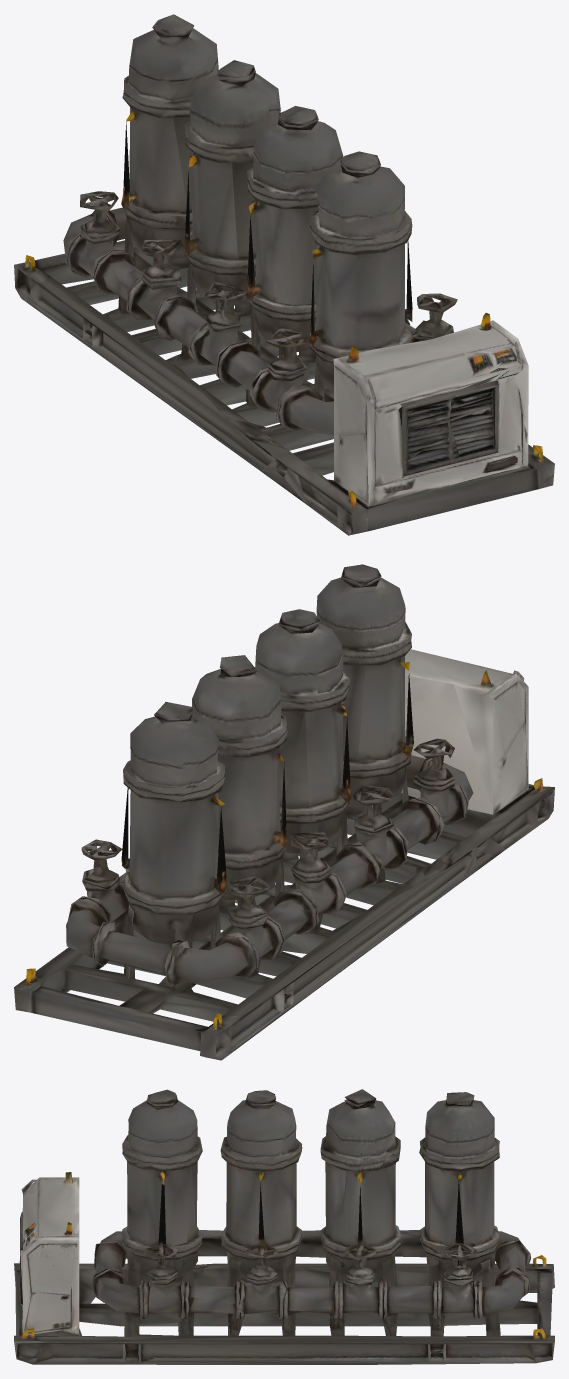
The model's file is vesselSkid.glb.
The picture shows the model from 3 angles, top to bottom: view 1: azimuth 30°, elevation 25°; view 2: azimuth 150°, elevation 25°; view 3: azimuth 270°, elevation 25°; orthographic projection. The views are drawn at different scales.
Visible parts, largest first — view 1: vesselSkid; view 2: vesselSkid; view 3: vesselSkid.
Part boxes in pixels (bbox=[...]): vesselSkid: bbox=[14, 14, 554, 535]; vesselSkid: bbox=[14, 564, 554, 1060]; vesselSkid: bbox=[14, 1089, 554, 1364].
Size of the model in its own units: 4.43 by 6.11 by 13.
1 material, 1 textured.
